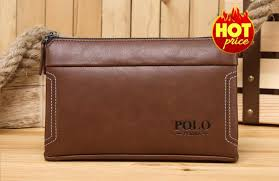monedero: (41, 34, 240, 164)
